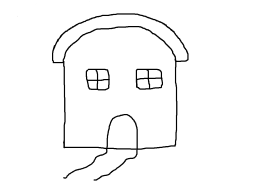closed_window: (131, 61, 169, 97), (81, 64, 112, 96)
door: (102, 110, 143, 158)
roof: (45, 9, 203, 66)
wall: (60, 62, 182, 155)
